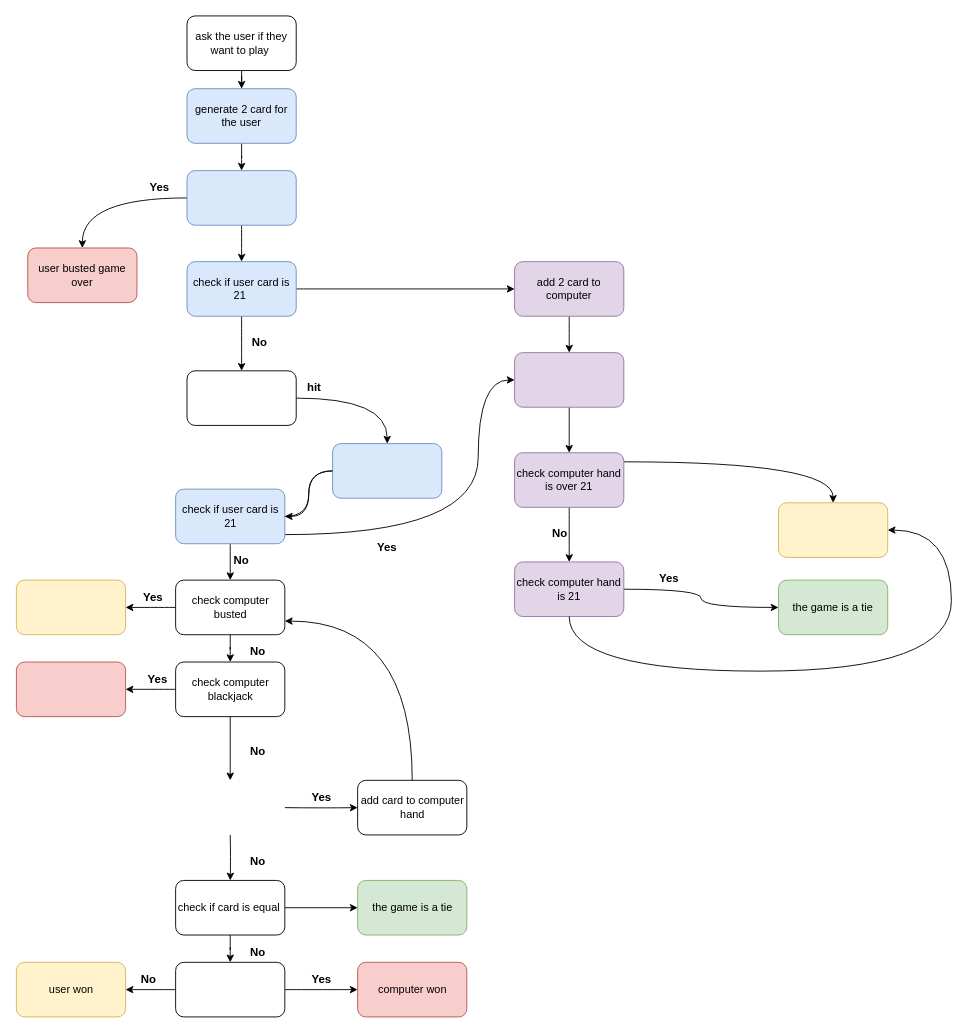
Image size: 967x1033. Some labels were removed from this diagram. Each missing label, with the box of its shape:
add card to the user and computer: (332, 443, 442, 498)
add card until total more then 16: (514, 352, 624, 407)
ask user if they want to hit or stand: (186, 370, 296, 425)
check if computer hand is greater: (175, 961, 285, 1017)
check if user card is over 21: (186, 170, 296, 225)
computer blackjack game over: (15, 661, 126, 717)
computer busted user won: (15, 579, 126, 635)
user won with blackjack: (778, 502, 888, 557)
